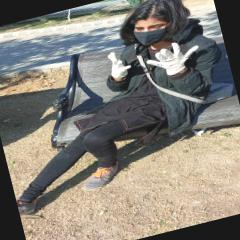gloved: (145, 38, 202, 81), (106, 48, 133, 80)
